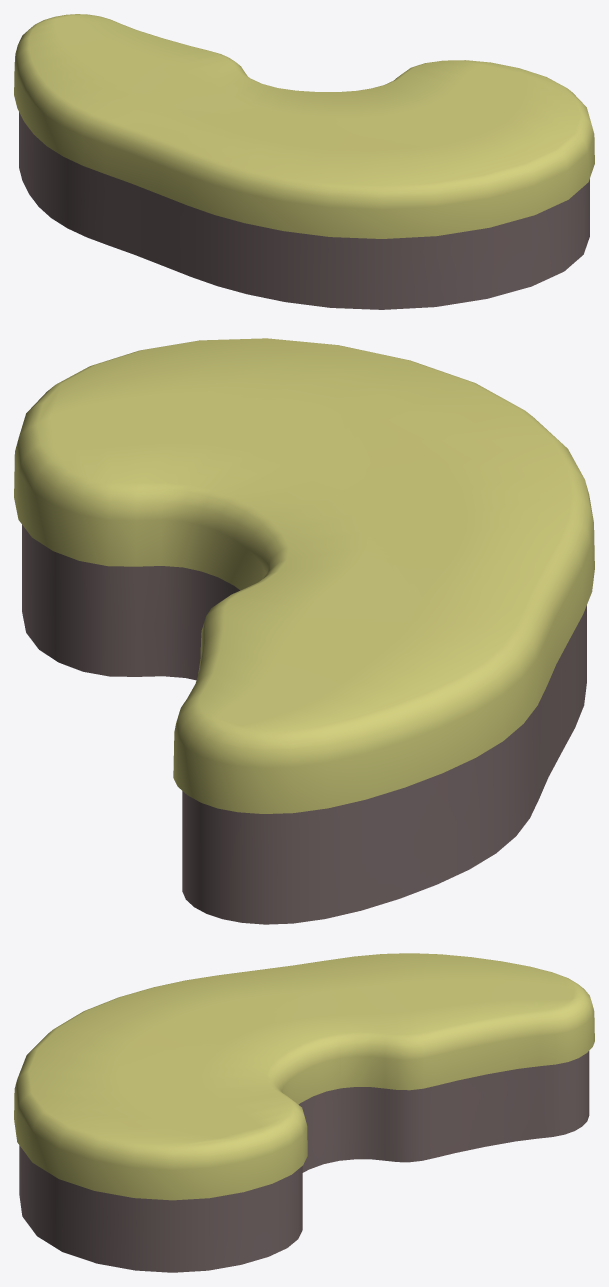
The model's file is Mountains-05.fbx.
3 views of the same model, one above another, from view 1: azimuth 30°, elevation 25°; view 2: azimuth 150°, elevation 25°; view 3: azimuth 270°, elevation 25° (orthographic). The views are drawn at different scales.
Parts seen in each view (by area): view 1: Mountains-05; view 2: Mountains-05; view 3: Mountains-05.
Boxes of the visible parts, box(x1,y1,x2,y2) form: Mountains-05: box(14, 14, 594, 309); Mountains-05: box(14, 338, 594, 924); Mountains-05: box(14, 953, 594, 1272).
Size of the model in its own units: 75937 by 21186 by 90715.
